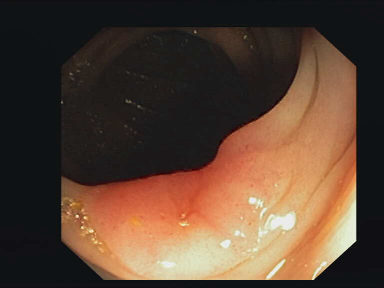polyp: (138, 166, 239, 246)
